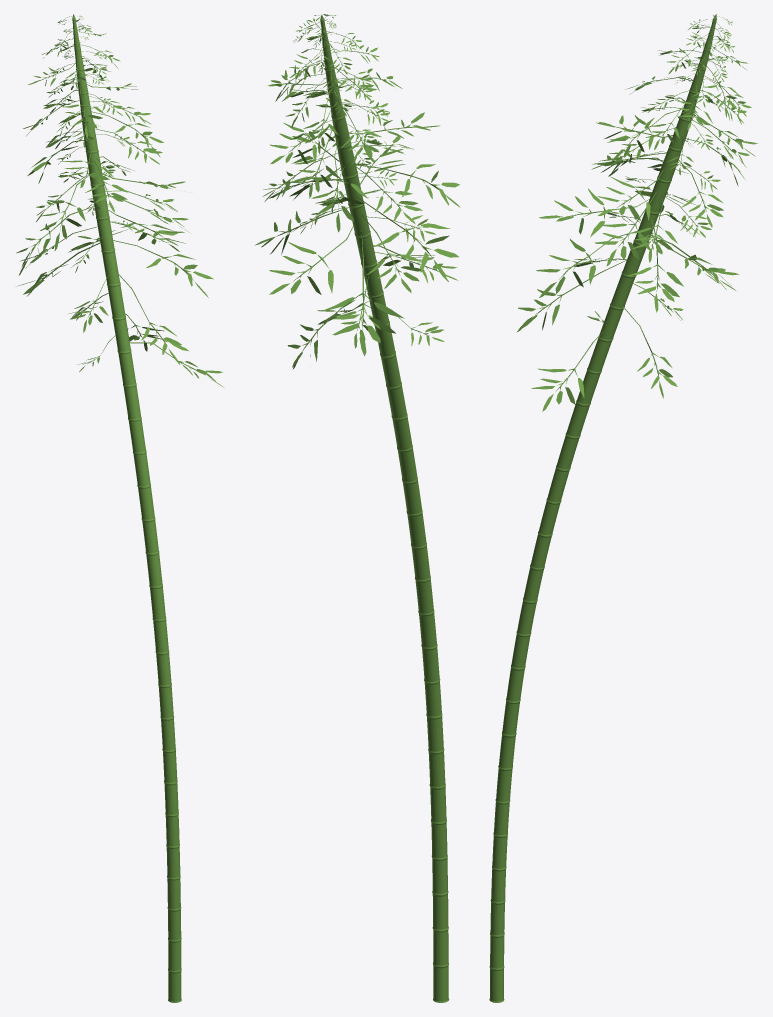
The model's file is bamboo_bend_2FBX.fbx.
3 views of the same model, side by side, from view 1: azimuth 30°, elevation 25°; view 2: azimuth 150°, elevation 25°; view 3: azimuth 270°, elevation 25° (orthographic). The views are drawn at different scales.
Parts seen in each view (by area): view 1: Trunk_base; view 2: Trunk_base; view 3: Trunk_base.
Part boxes in pixels (box(x1,y1,x2,y2)): Trunk_base: box(16, 14, 223, 1002); Trunk_base: box(255, 14, 460, 1002); Trunk_base: box(489, 14, 757, 1002).
Size of the model in its own units: 651 by 3453 by 854.
